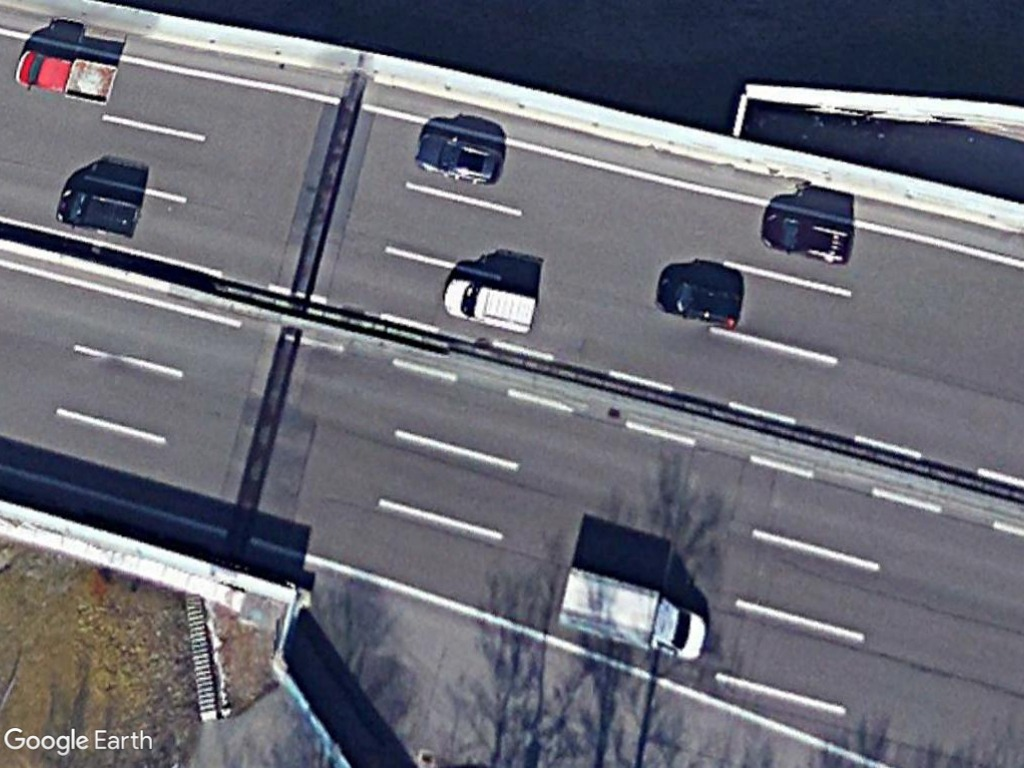car: (756, 209, 857, 266), (414, 132, 506, 185)
others: (10, 45, 123, 105)
truck: (553, 562, 710, 667)
van: (438, 275, 540, 335)
